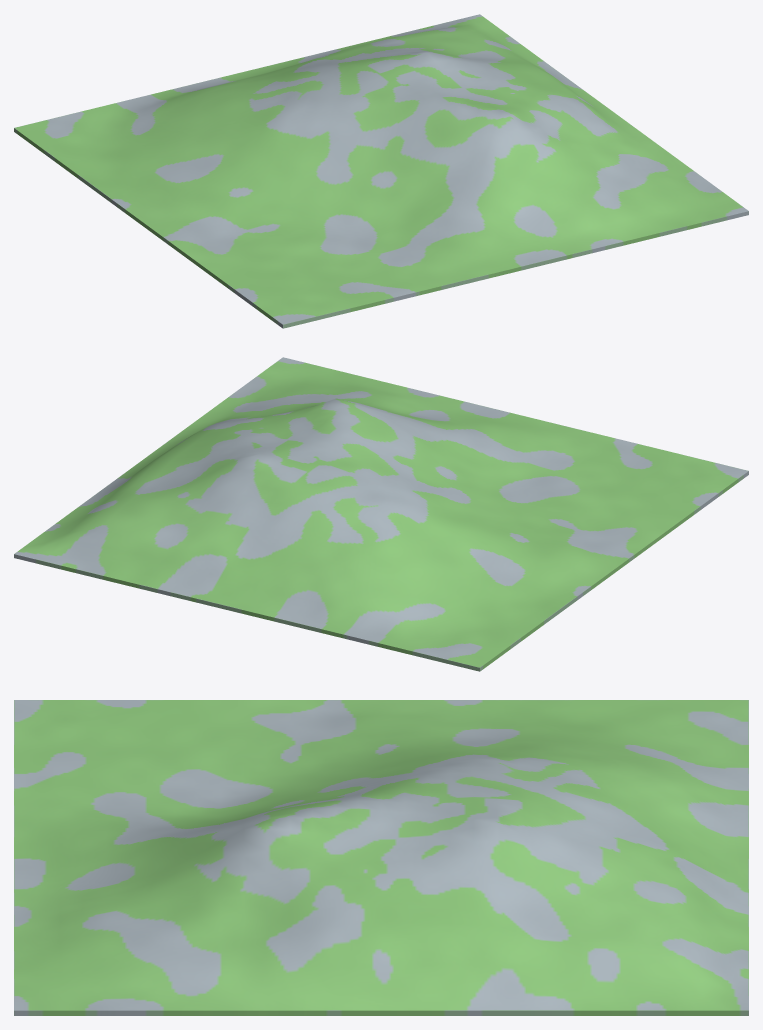
File: Grass_RockyGround_12.obj
The picture shows the model from 3 angles, top to bottom: view 1: azimuth 30°, elevation 25°; view 2: azimuth 150°, elevation 25°; view 3: azimuth 270°, elevation 25°; orthographic projection. The views are drawn at different scales.
Bounding box in the file's own units: 10 × 1.42 × 10.
Materials: 1 (1 with a texture image).
